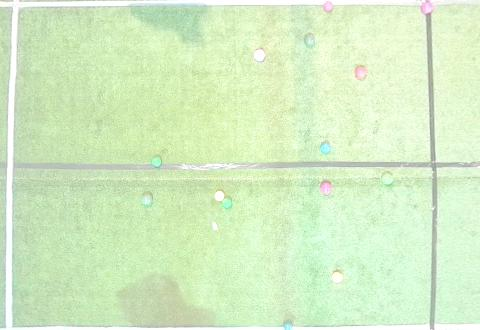blue: (320, 143, 330, 154), (283, 322, 293, 329)
green: (381, 172, 393, 185), (304, 34, 315, 47), (141, 194, 152, 206), (222, 198, 232, 209), (151, 157, 161, 167)
red: (421, 2, 434, 15), (320, 182, 332, 195), (355, 66, 367, 79), (253, 49, 265, 62), (323, 1, 334, 12)
vline: (425, 14, 479, 329), (0, 0, 22, 329)
white: (212, 222, 217, 231)
yellow: (332, 272, 343, 283), (214, 191, 224, 202)
